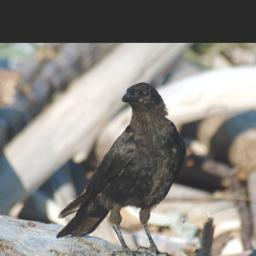Crow: (54, 80, 189, 256)
